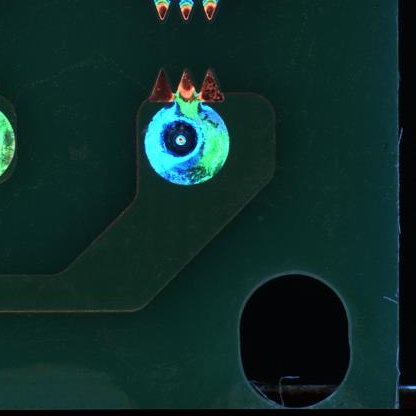spot: (142, 98, 231, 188)
